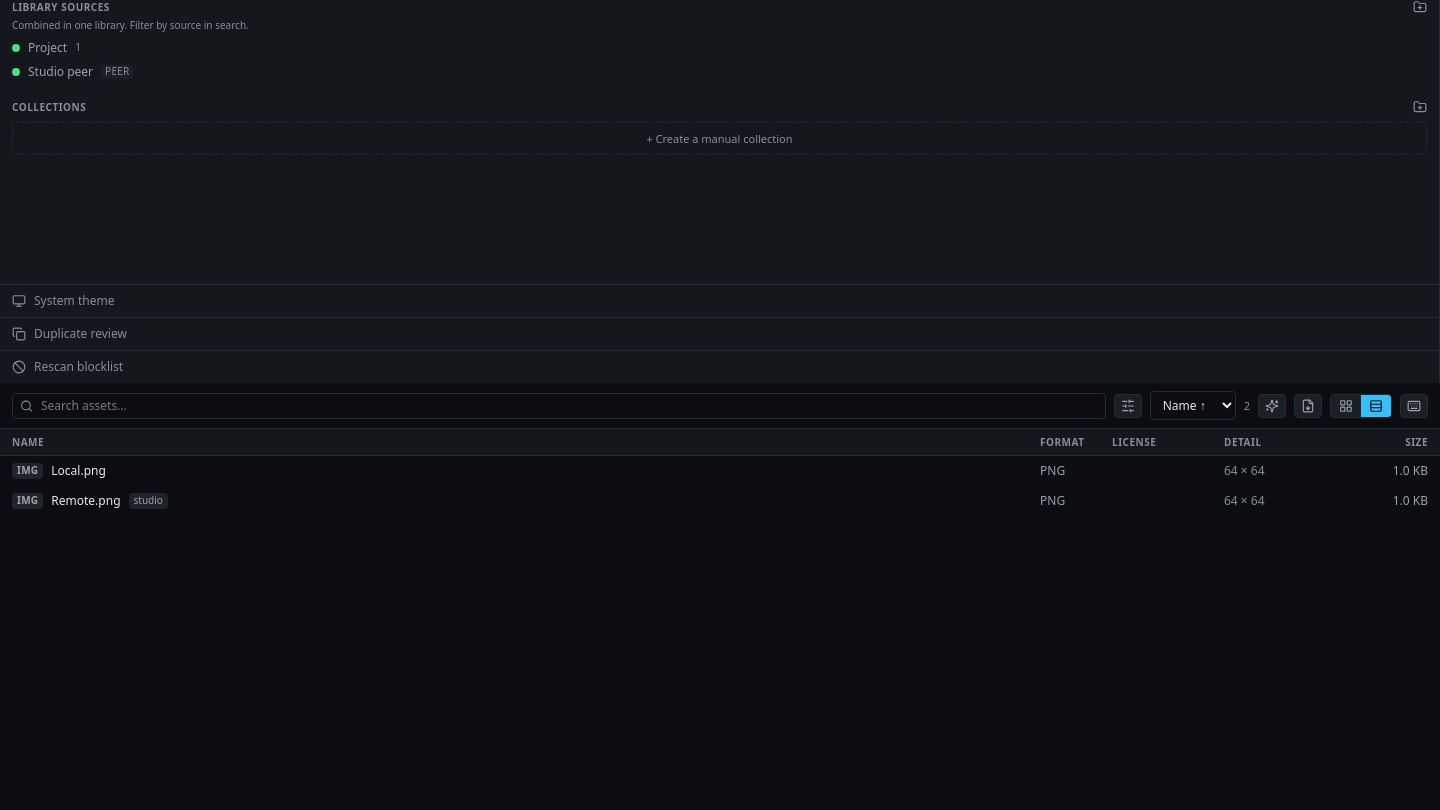
Test: the library combines local and peer assets, narrowing only through search filters
(page scrolled)
Expected: the button "IMG Local.png png 64 × 64 1.0 KB" is shown, [0,456,1439,486]
Expected: the button "IMG Remote.png studio png 64 × 64 1.0 KB" is shown, [0,486,1439,516]
Click the button named "Advanced filters" at [1128, 406], box [1114,394,1142,418]
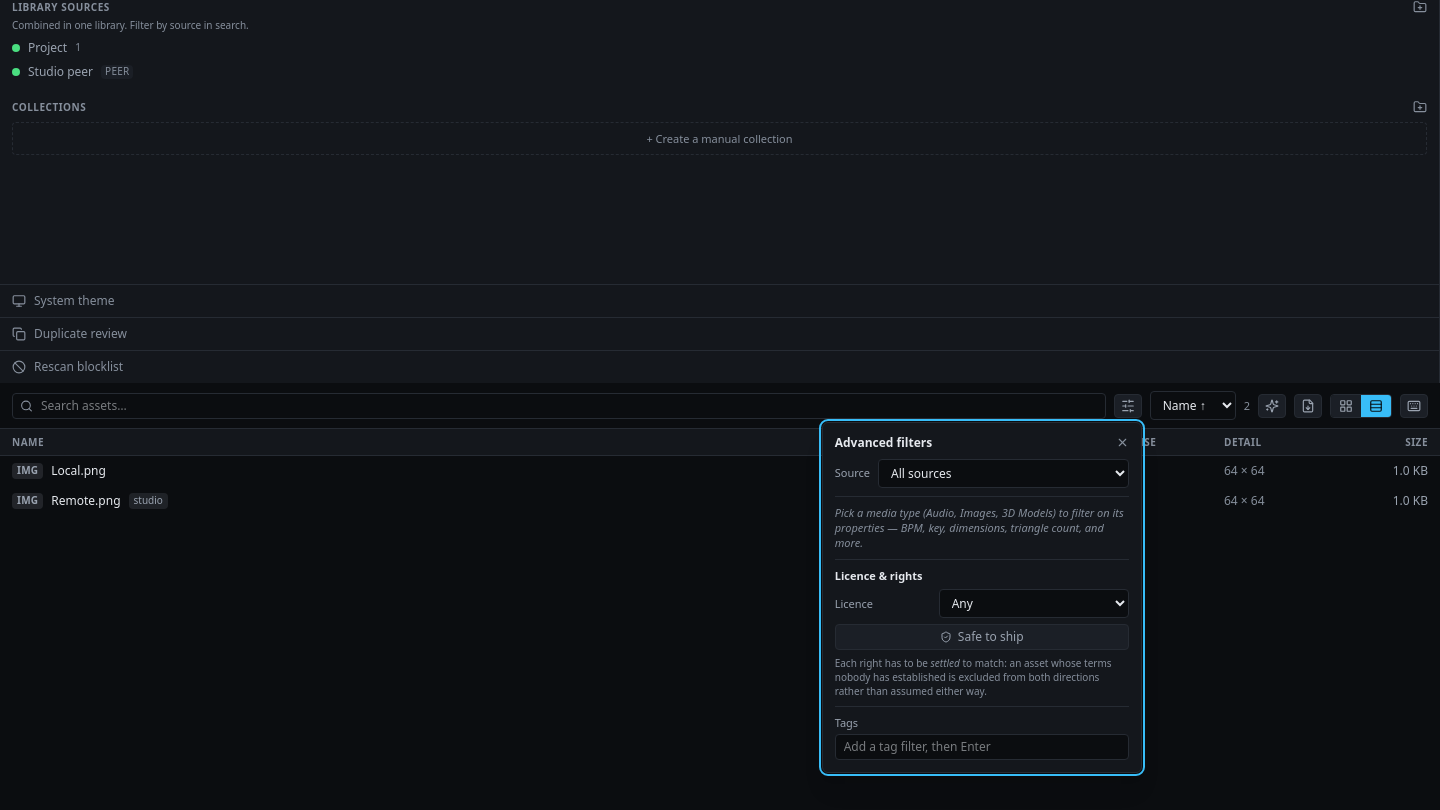
Result: the dropdown labelled "Source" shows "All sources"
Select "Studio peer" in the dropdown labelled "Source" at [1003, 473], box [878,458,1129,488]
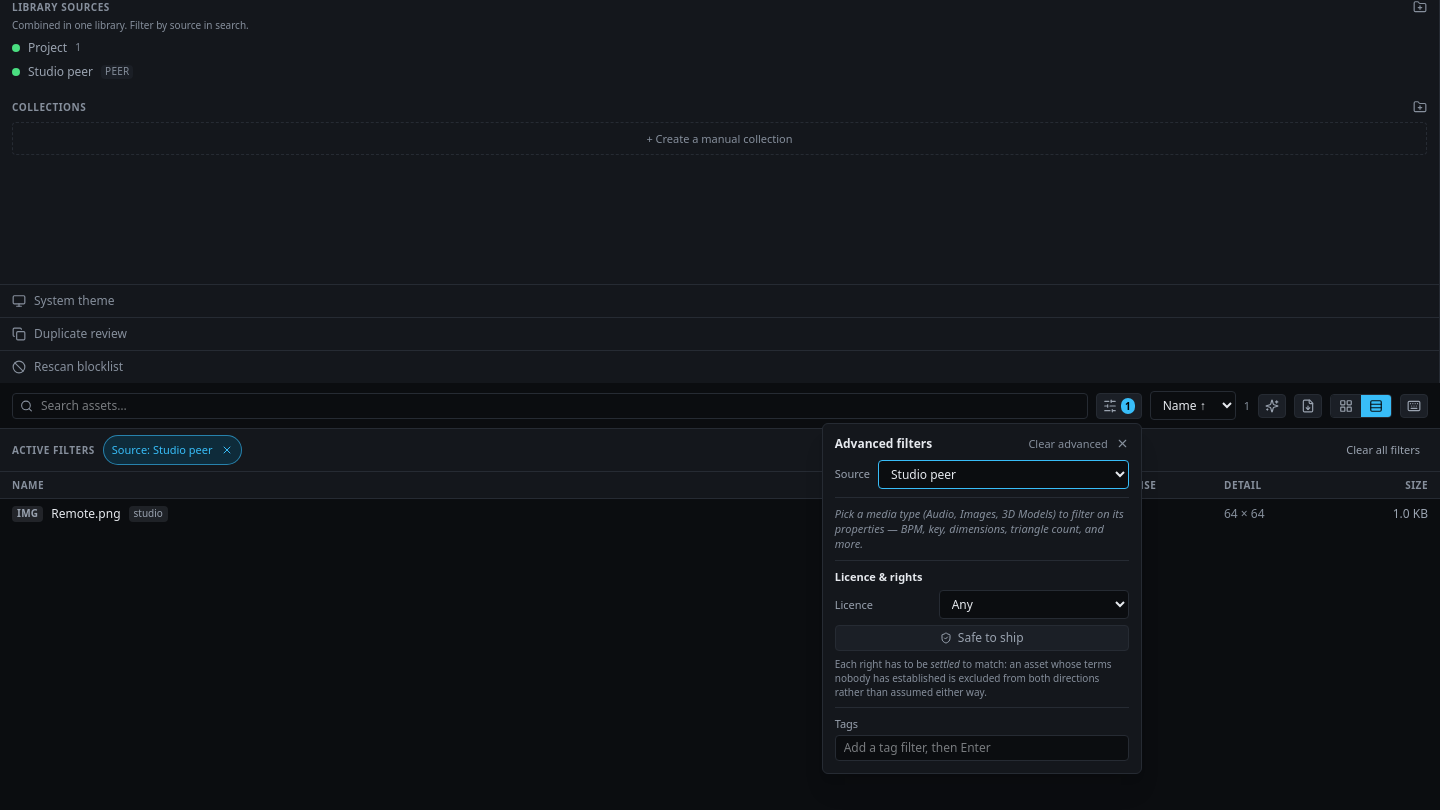
Expected: the button "IMG Remote.png studio png 64 × 64 1.0 KB" is shown, [0,499,1439,529]
Result: the button "Local.png" is gone
Result: the text "Source: Studio peer" is shown at [104,438,213,462]
Select "All sources" in the dropdown labelled "Source" at [1003, 474], box [878,460,1129,488]
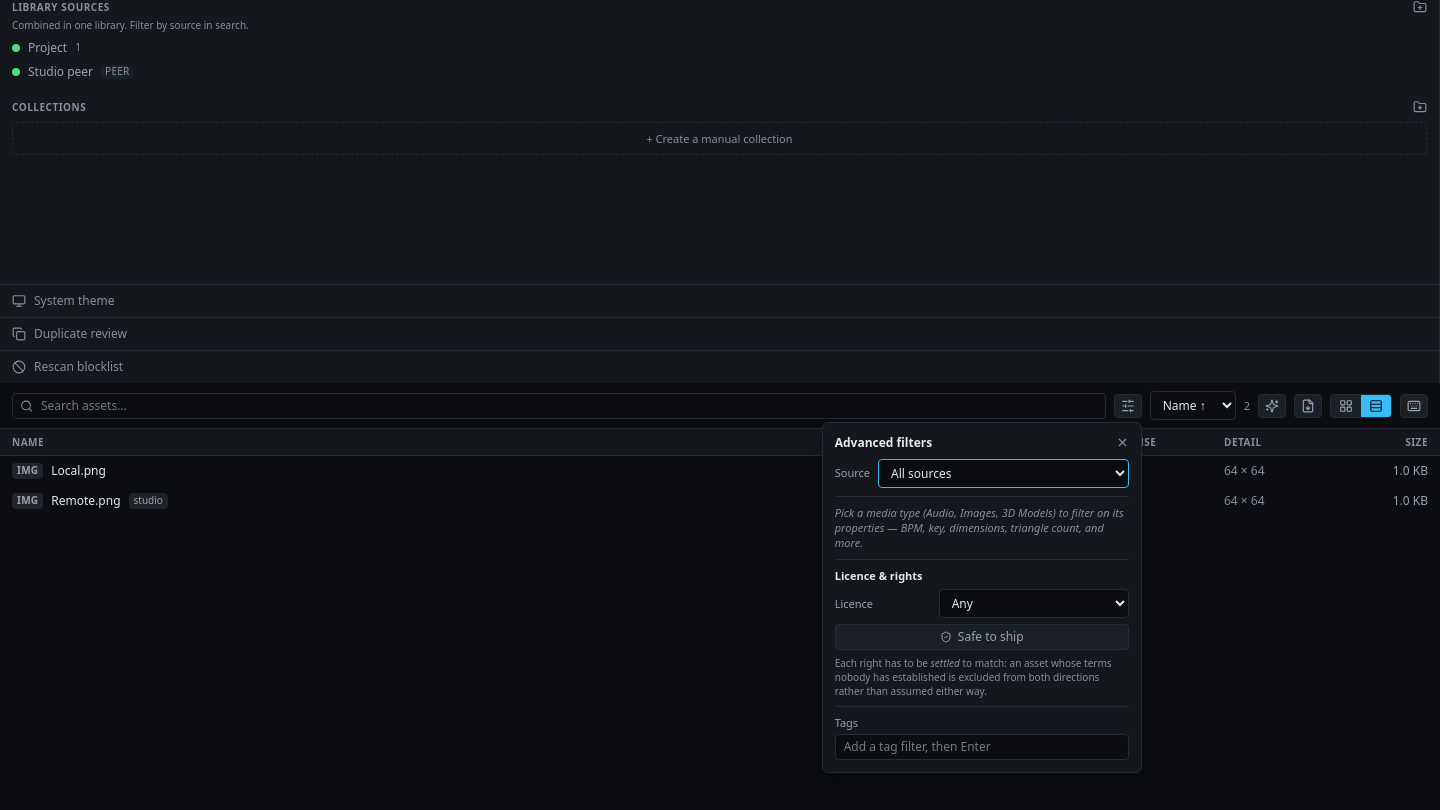
Expected: the button "IMG Remote.png studio png 64 × 64 1.0 KB" is shown, [0,486,1439,516]
Result: the button "IMG Local.png png 64 × 64 1.0 KB" is shown at [0,456,1439,486]
Result: the text "Source: Studio peer" is gone
